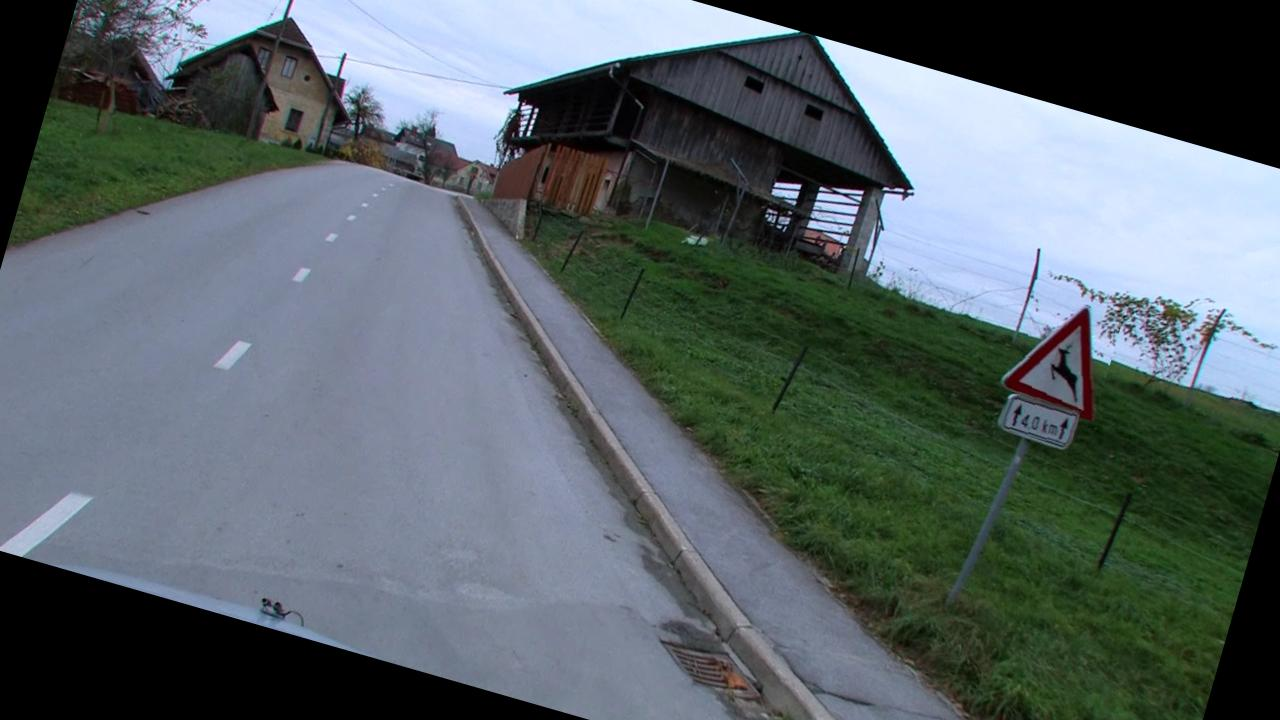Rectangle: (996, 389, 1082, 450)
Triangle: (1001, 288, 1124, 422)
